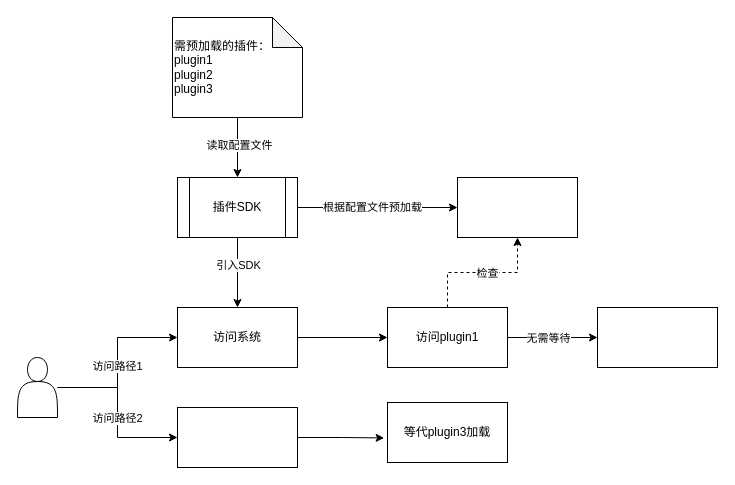
This 735x485 diagram has some shape labels left out. Each missing label, with the centre of its shape:
"已预加载的插件： plugin1 plugin2" belongs at pixel 517 207.
"直接缓存读出" belongs at pixel 657 337.
"访问系统plugin3" belongs at pixel 237 437.
